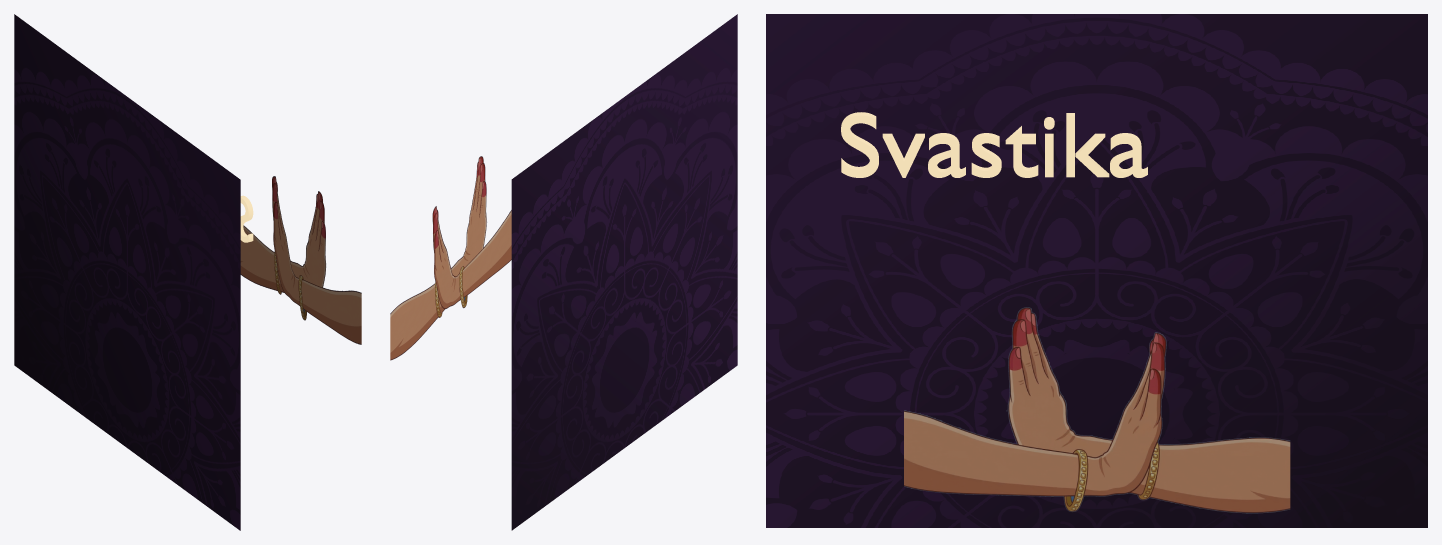
File: svastika.glb
3 renders of one model, left to right at view 1: azimuth 30°, elevation 25°; view 2: azimuth 150°, elevation 25°; view 3: azimuth 270°, elevation 25°, orthographic. The views are drawn at different scales.
Visible parts, largest first — view 1: Plane.003, Anjali.003, Text.024; view 2: Plane.003, Anjali.003; view 3: Plane.003, Anjali.003, Text.024.
Part boxes in pixels (x1,y1,x2,y2): Plane.003: (14,14,240,530); Anjali.003: (240,176,361,344); Text.024: (240,195,253,242); Plane.003: (511,14,737,530); Anjali.003: (390,156,511,360); Plane.003: (766,14,1427,527); Anjali.003: (904,307,1290,513); Text.024: (841,112,1147,177).
Bounding box in the file's own units: 1.53 × 3.05 × 3.56.
Materials: 3 (2 with a texture image).
